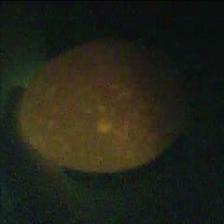fertile: (16, 38, 202, 174)
